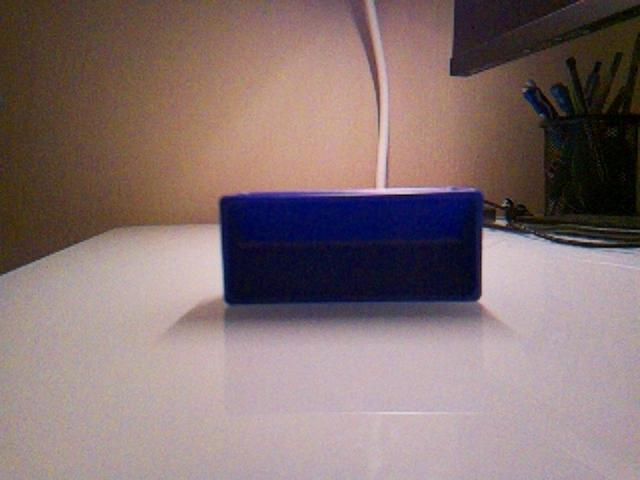blue: (218, 185, 486, 306)
